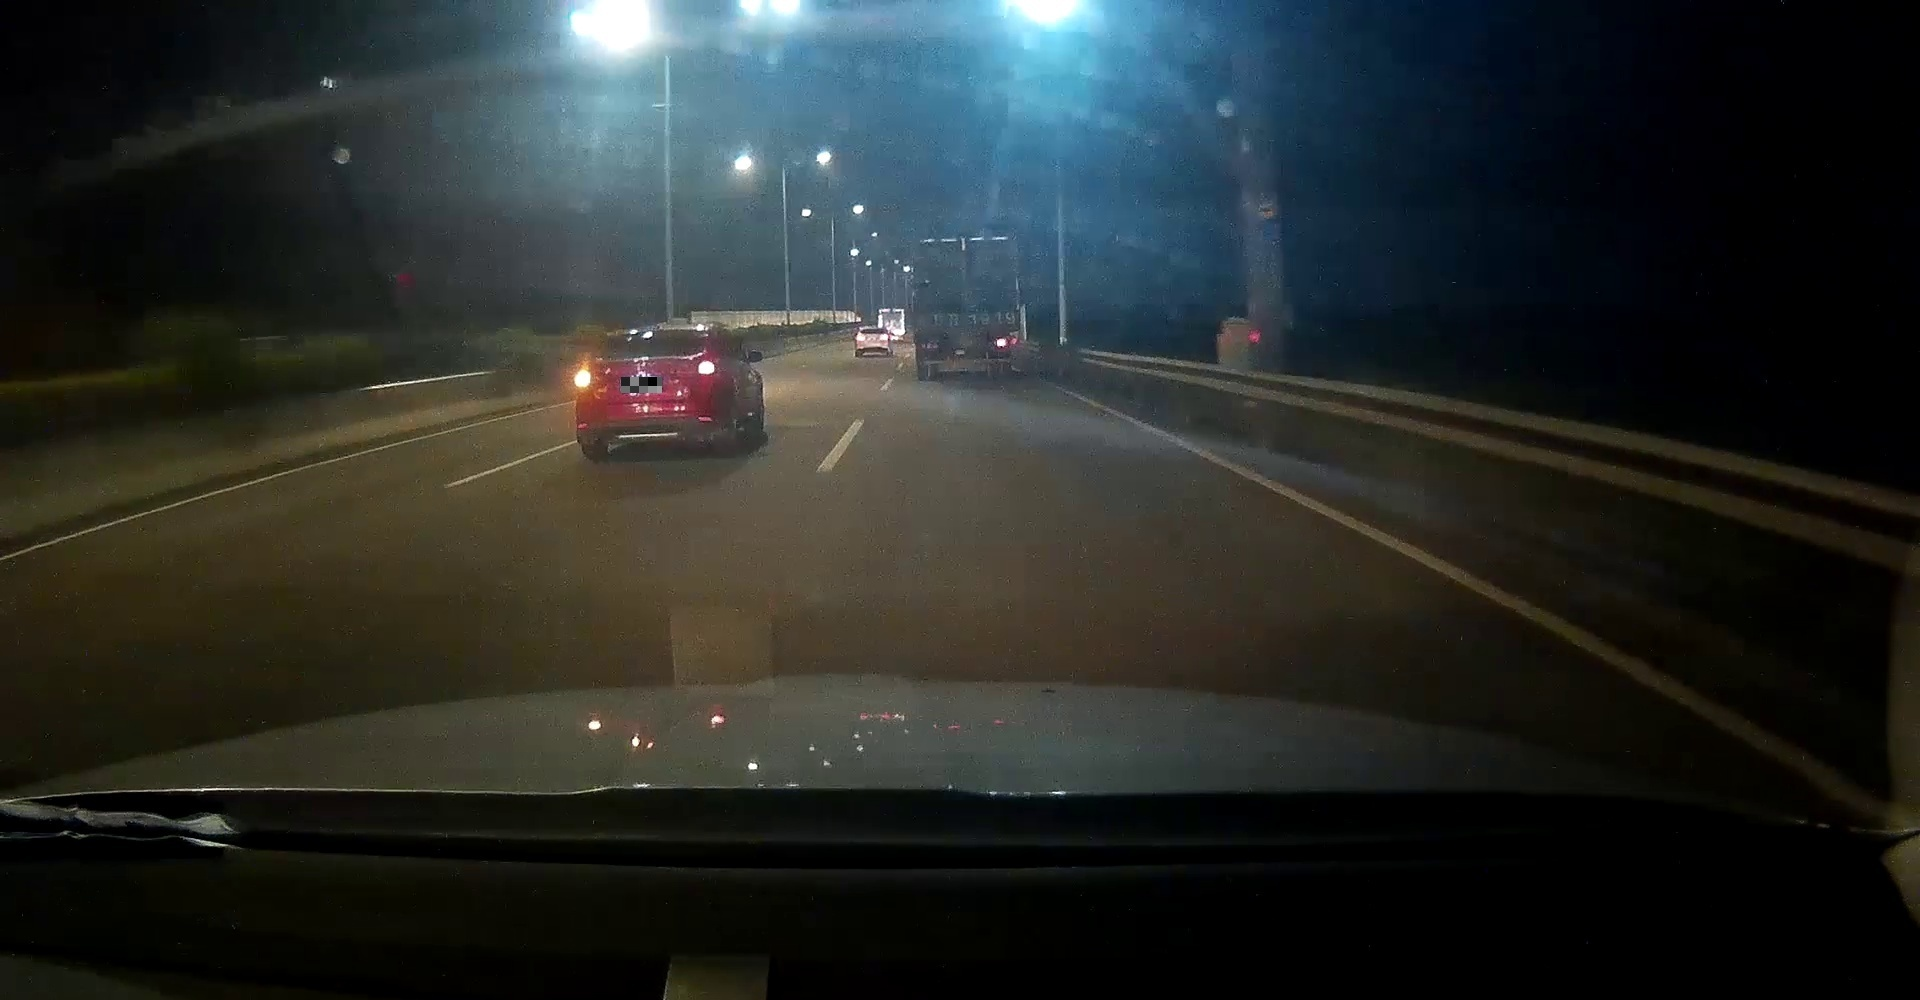L_light: (575, 371, 596, 390), (922, 341, 938, 349), (857, 336, 865, 341)
R_light: (695, 362, 715, 381), (996, 339, 1011, 346), (883, 336, 888, 340)
T_light: (959, 242, 975, 247), (643, 332, 662, 336), (871, 329, 877, 331)
night-left: (575, 325, 719, 459)
night-no: (856, 327, 889, 357)
night-right: (913, 239, 1018, 381)
plate_1: (621, 377, 662, 393)
